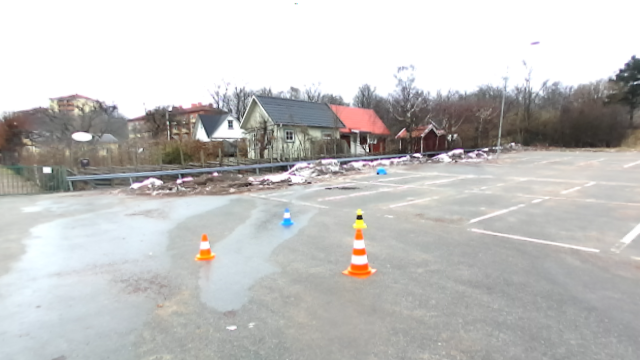blue: (278, 205, 294, 228)
orange: (193, 233, 215, 265)
orange2: (341, 227, 377, 281)
yellow: (351, 208, 367, 228)
